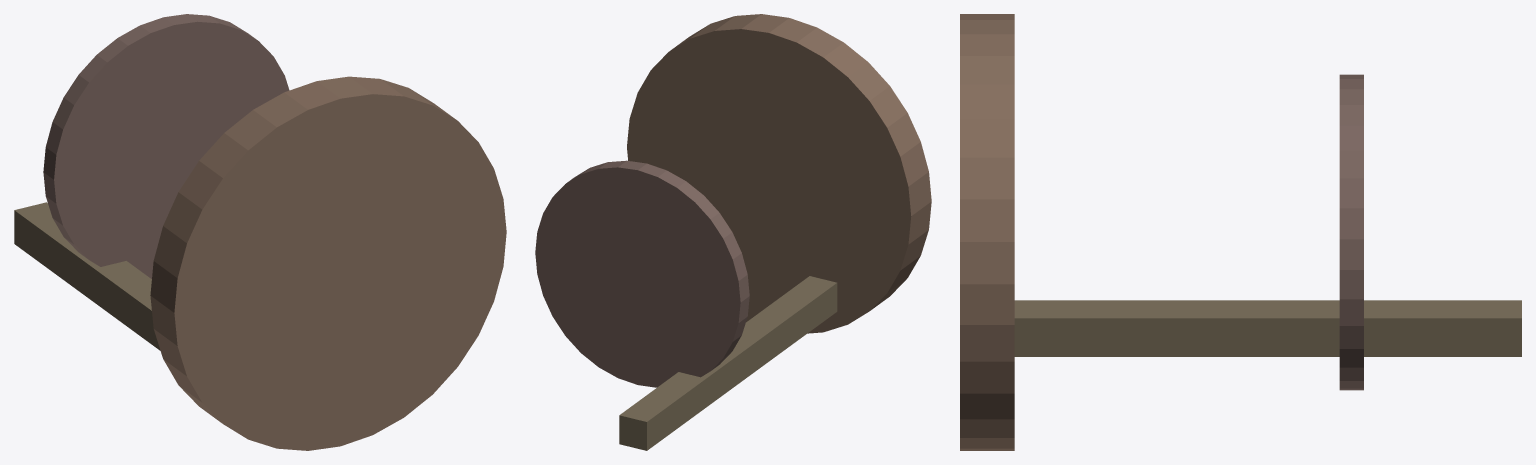
The model's file is stool.glb.
The picture shows the model from 3 angles, left to right: view 1: azimuth 30°, elevation 25°; view 2: azimuth 150°, elevation 25°; view 3: azimuth 270°, elevation 25°; orthographic projection. The views are drawn at different scales.
Parts seen in each view (by area): view 1: stool_seat, stool_ring, stool_leg; view 2: stool_seat, stool_ring, stool_leg; view 3: stool_leg, stool_seat, stool_ring.
Boxes of the visible parts, x1=… form: stool_seat: x1=150, y1=76, x2=506, y2=450; stool_ring: x1=43, y1=14, x2=289, y2=278; stool_leg: x1=14, y1=202, x2=160, y2=350; stool_seat: x1=627, y1=14, x2=931, y2=333; stool_ring: x1=535, y1=160, x2=749, y2=387; stool_leg: x1=619, y1=276, x2=837, y2=450; stool_leg: x1=1014, y1=300, x2=1521, y2=356; stool_seat: x1=960, y1=14, x2=1014, y2=450; stool_ring: x1=1339, y1=74, x2=1363, y2=390.
Bounding box in the file's own units: 0.36 × 0.36 × 0.4625.
